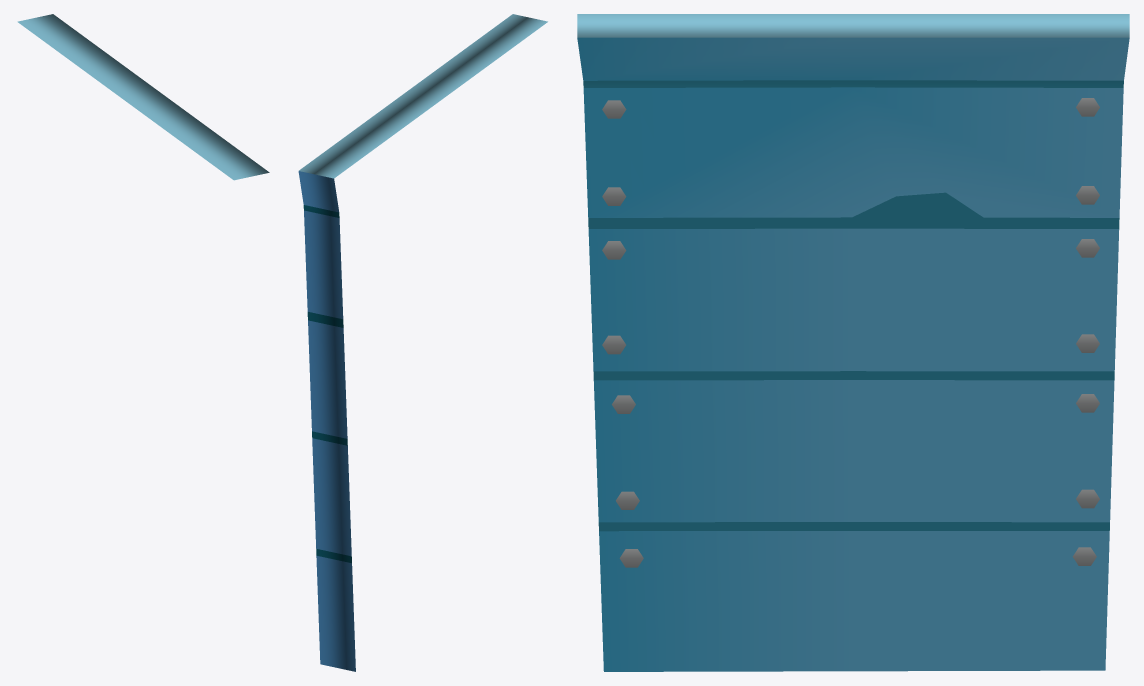
The model's file is Door.glb.
The picture shows the model from 3 angles, left to right: view 1: azimuth 30°, elevation 25°; view 2: azimuth 150°, elevation 25°; view 3: azimuth 270°, elevation 25°; orthographic projection. The views are drawn at different scales.
Visible parts, largest first — view 1: Door; view 2: Door; view 3: Door.
Boxes of the visible parts, box(x1,y1,x2,y2) form: Door: box(17, 14, 269, 180); Door: box(298, 14, 547, 671); Door: box(577, 14, 1129, 671).
Bounding box in the file's own units: 0.2083 × 2.07 × 1.61.
